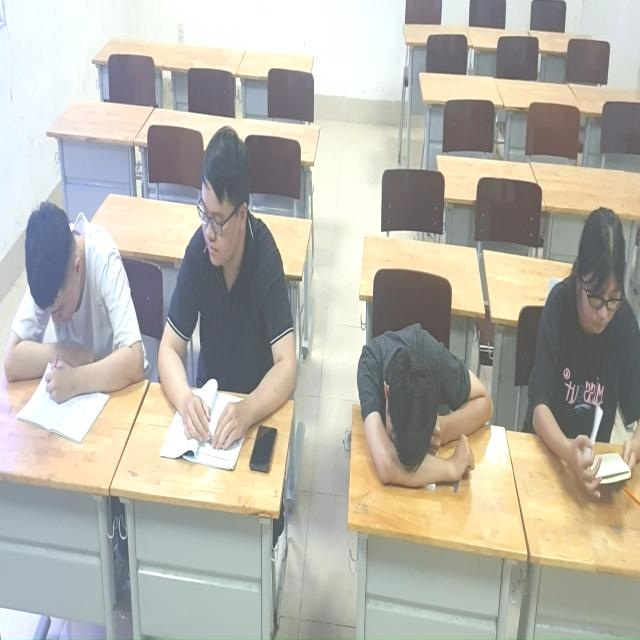read: (155, 109, 287, 469), (7, 156, 156, 438), (514, 204, 640, 502)
sleep: (355, 250, 505, 480)
